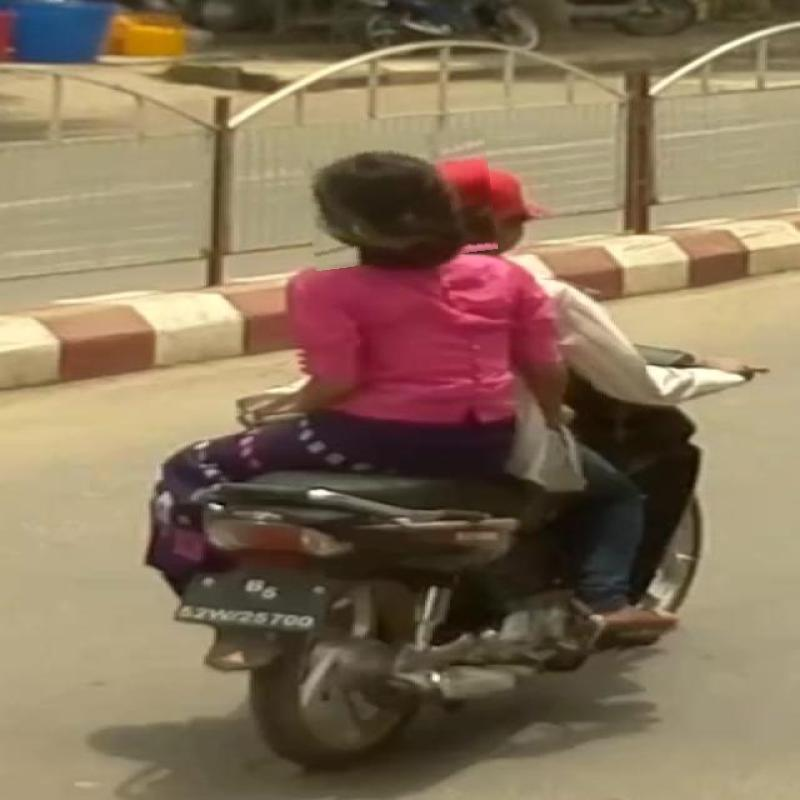nohelmet: (304, 132, 496, 266)
